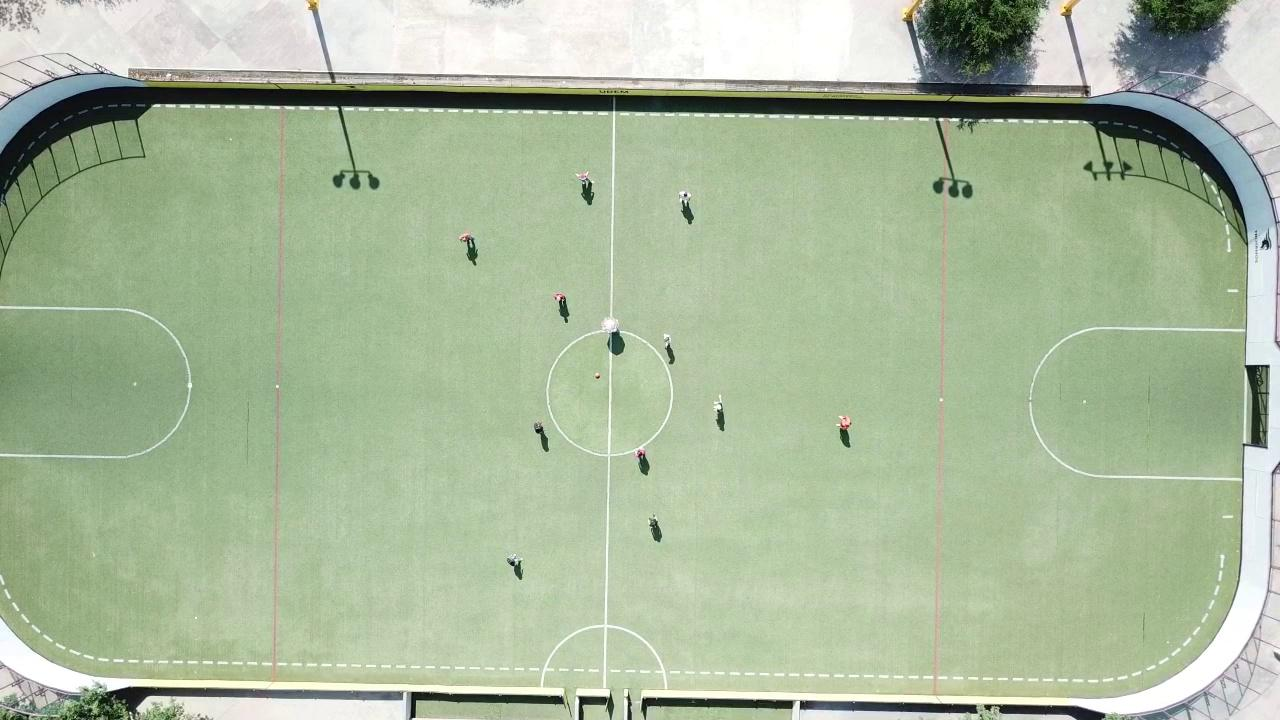ball: (595, 372, 600, 378)
player: (674, 188, 694, 207), (600, 317, 619, 334), (506, 554, 522, 569), (838, 414, 851, 430), (577, 171, 592, 184), (461, 230, 475, 243), (713, 399, 723, 414), (662, 333, 671, 349), (635, 447, 646, 460), (554, 292, 566, 303), (534, 421, 544, 434), (649, 514, 658, 528)
